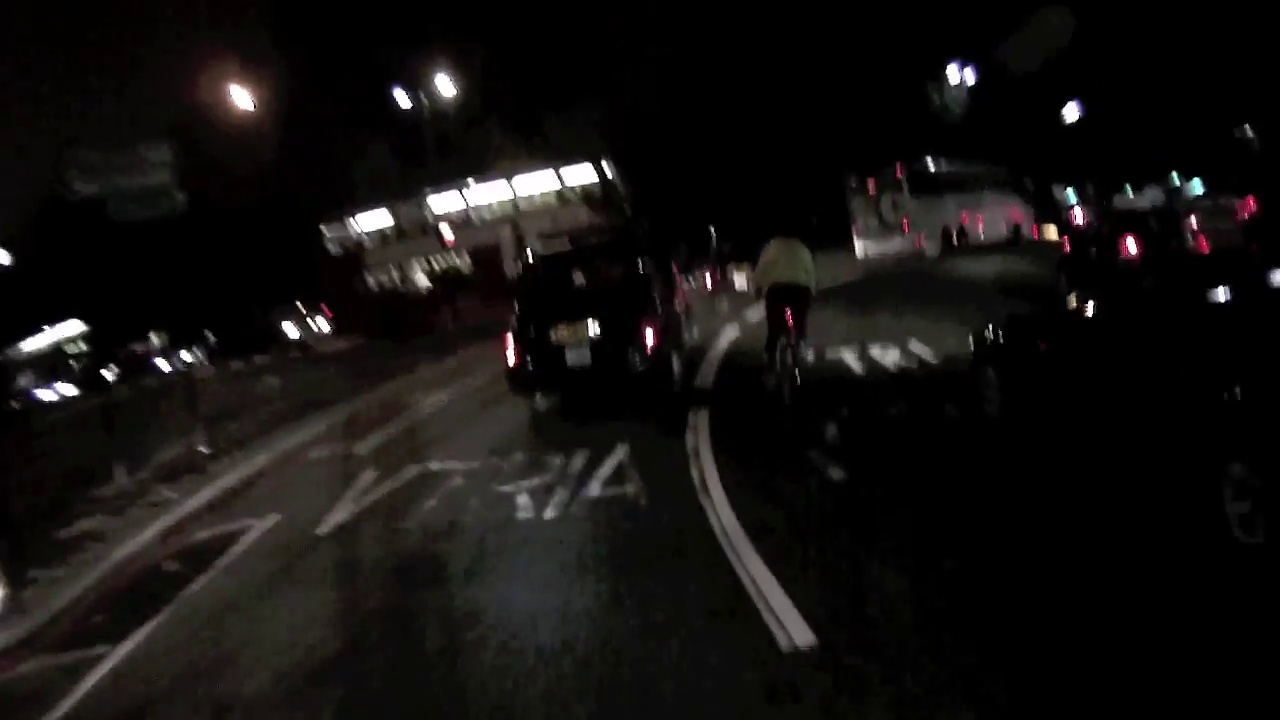cyclist_back: (751, 224, 818, 420)
